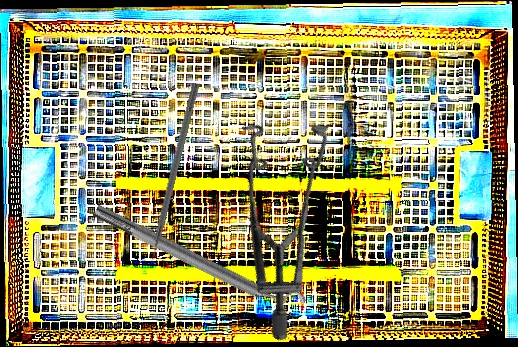Fixation Ring: (88, 192, 308, 329)
Hook Surgical: (144, 82, 200, 269)
Speculum: (153, 85, 402, 345)
